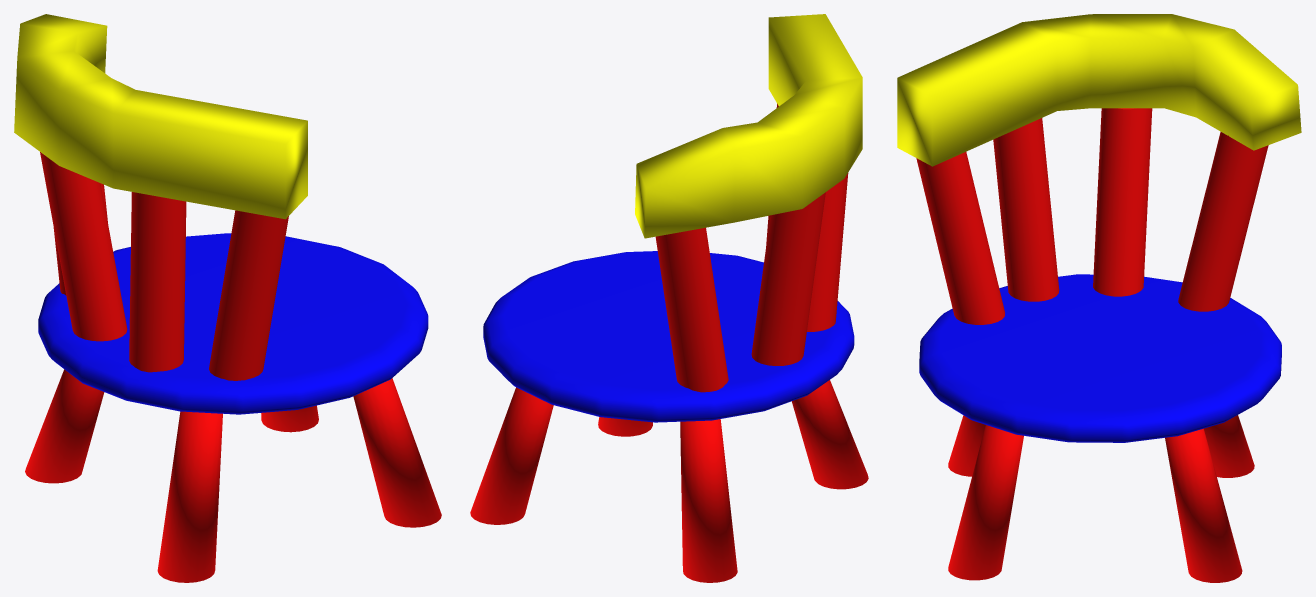
The model's file is Stool.fbx.
3 renders of one model, left to right at view 1: azimuth 30°, elevation 25°; view 2: azimuth 150°, elevation 25°; view 3: azimuth 270°, elevation 25°, orthographic. The views are drawn at different scales.
Visible parts, largest first — view 1: pCylinder12; view 2: pCylinder12; view 3: pCylinder12.
Boxes of the visible parts, x1=… form: pCylinder12: x1=14, y1=14, x2=441, y2=582; pCylinder12: x1=470, y1=14, x2=868, y2=582; pCylinder12: x1=897, y1=14, x2=1301, y2=582.
Bounding box in the file's own units: 0.9498 × 1.18 × 1.02.
